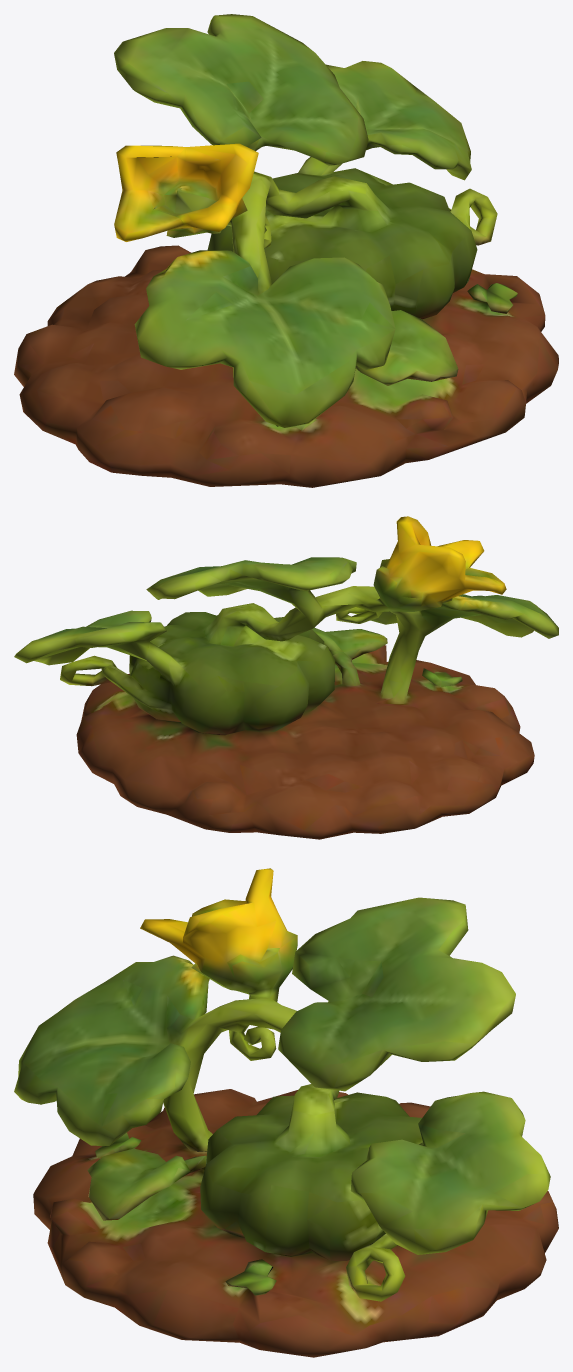
3 renders of one model, top to bottom at view 1: azimuth 30°, elevation 25°; view 2: azimuth 150°, elevation 25°; view 3: azimuth 270°, elevation 25°, orthographic. The views are drawn at different scales.
Parts seen in each view (by area): view 1: pumpkin-growing; view 2: pumpkin-growing; view 3: pumpkin-growing.
Boxes of the visible parts, x1,y1,x2,y2 form: pumpkin-growing: (14,14,558,487); pumpkin-growing: (14,516,558,839); pumpkin-growing: (14,868,558,1357).
Bounding box in the file's own units: 0.7919 × 0.4489 × 0.7475.
Materials: 1 (1 with a texture image).
